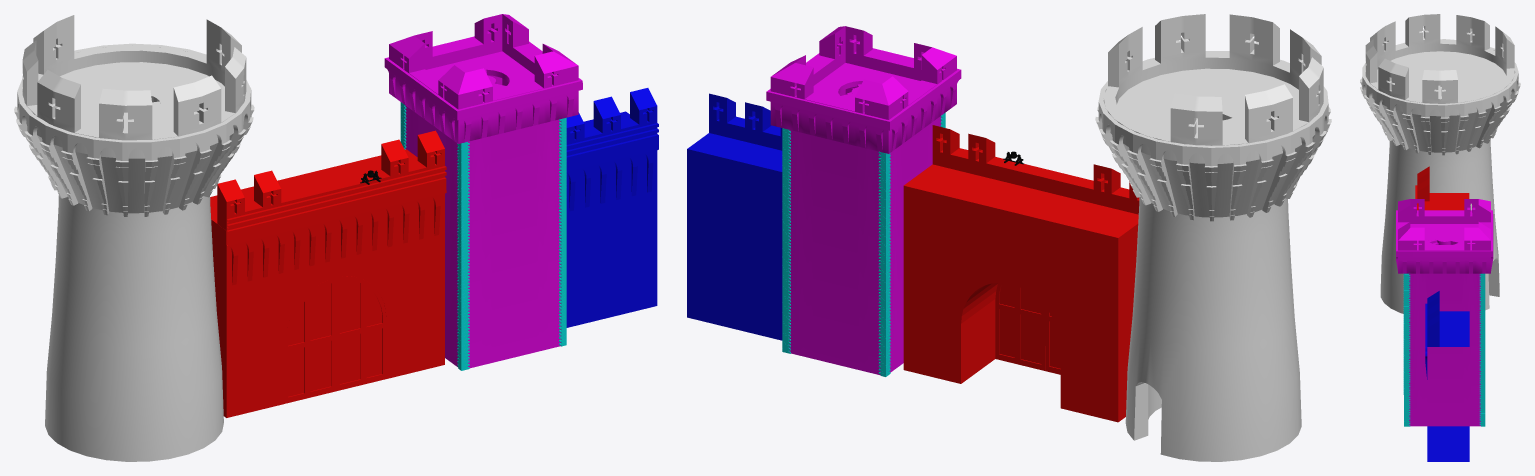
The model's file is castleWall.fbx.
3 renders of one model, left to right at view 1: azimuth 30°, elevation 25°; view 2: azimuth 150°, elevation 25°; view 3: azimuth 270°, elevation 25°, orthographic. The views are drawn at different scales.
Parts seen in each view (by area): view 1: pCube100, polySurface2843, polySurface564, polySurface406, polySurface2836; view 2: pCube100, polySurface2843, polySurface564, polySurface406, polySurface2836; view 3: pCube100, polySurface564, polySurface406, polySurface2836, polySurface2843.
Part boxes in pixels (x1,y1,x2,y2): pCube100: (14, 15, 254, 461); polySurface2843: (210, 130, 446, 417); polySurface564: (384, 14, 582, 368); polySurface406: (566, 88, 658, 327); polySurface2836: (400, 102, 566, 370); pCube100: (1095, 14, 1331, 461); polySurface2843: (903, 125, 1139, 422); polySurface564: (766, 26, 961, 375); polySurface406: (687, 93, 782, 340); polySurface2836: (782, 112, 945, 376); pCube100: (1360, 14, 1520, 313); polySurface564: (1396, 199, 1493, 426); polySurface406: (1425, 291, 1469, 461); polySurface2836: (1403, 273, 1485, 426); polySurface2843: (1415, 166, 1469, 210).
Size of the model in its own units: 56.56 by 32.88 by 19.05.
